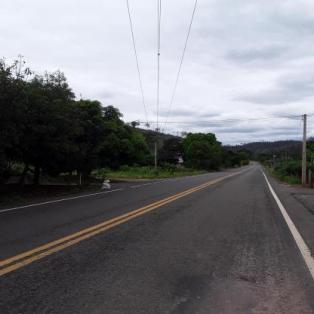Poste: (296, 112, 310, 185)
